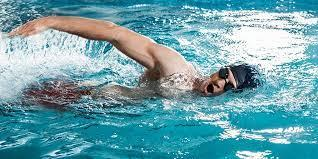Swimming: (0, 12, 289, 111)
